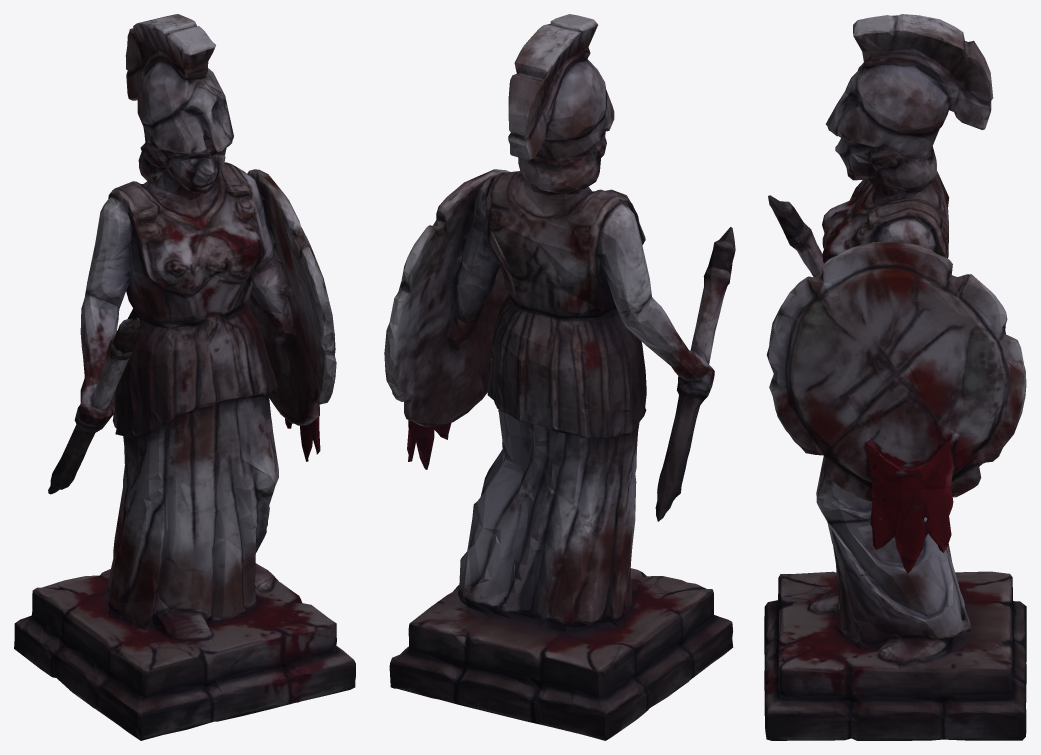
The model's file is statusAthena_LOD2.glb.
3 views of the same model, side by side, from view 1: azimuth 30°, elevation 25°; view 2: azimuth 150°, elevation 25°; view 3: azimuth 270°, elevation 25° (orthographic). The views are drawn at different scales.
Size of the model in its own units: 0.427 by 1 by 0.3576.
Materials: 1 (1 with a texture image).
